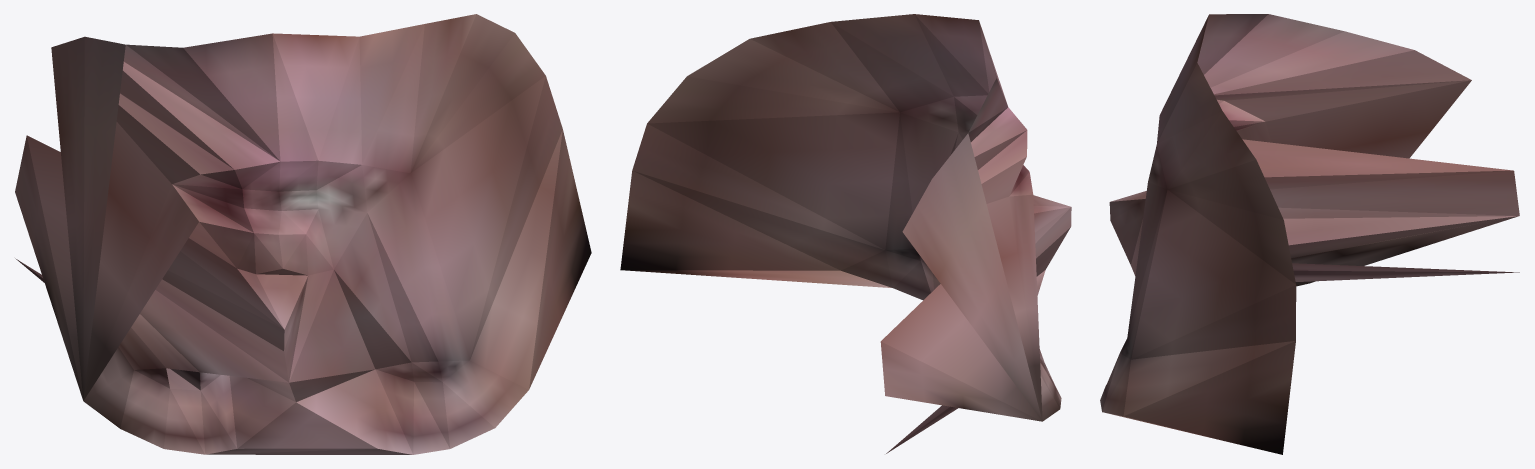
File: fake_44051.obj
The picture shows the model from 3 angles, left to right: view 1: azimuth 30°, elevation 25°; view 2: azimuth 150°, elevation 25°; view 3: azimuth 270°, elevation 25°; orthographic projection. The views are drawn at different scales.
Bounding box in the file's own units: 117 × 90 × 101.
